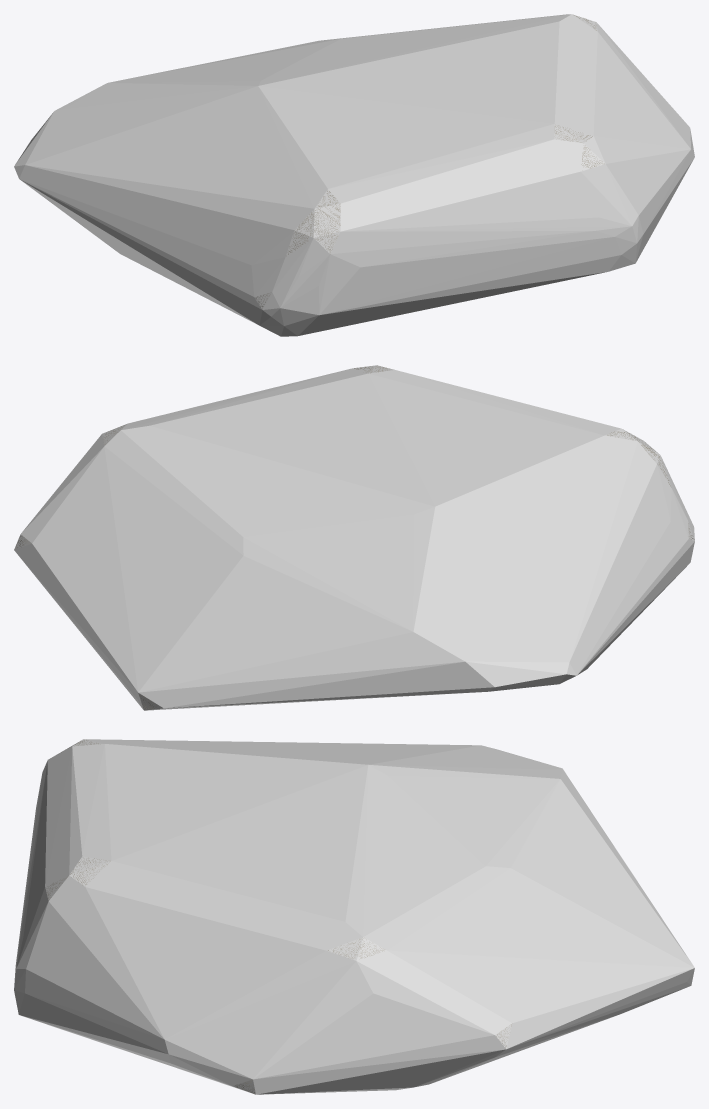
The model's file is bone_pile.low.webp.glb.
The picture shows the model from 3 angles, top to bottom: view 1: azimuth 30°, elevation 25°; view 2: azimuth 150°, elevation 25°; view 3: azimuth 270°, elevation 25°; orthographic projection. The views are drawn at different scales.
Parts seen in each view (by area): view 1: COL, LOD1_body; view 2: COL; view 3: COL.
Part boxes in pixels (x1,y1,x2,y2): COL: [14, 14, 694, 336]; LOD1_body: [255, 15, 604, 306]; COL: [14, 365, 694, 710]; COL: [14, 739, 694, 1094].
Size of the model in its own units: 0.9539 by 0.2264 by 0.8861.
Materials: 1 (1 with a texture image).
